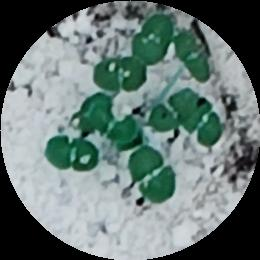Basil: (124, 148, 178, 202), (80, 95, 137, 141), (132, 13, 173, 63), (154, 89, 203, 128), (42, 136, 91, 170), (95, 58, 145, 89), (189, 106, 225, 146), (179, 36, 210, 80)
